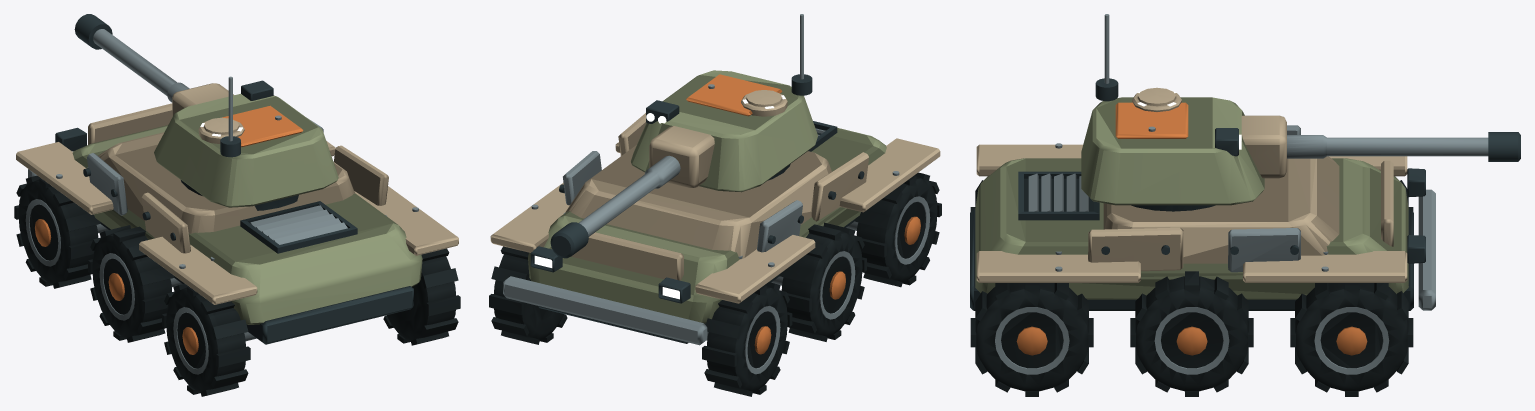
The model's file is Outrider.glb.
3 views of the same model, side by side, from view 1: azimuth 30°, elevation 25°; view 2: azimuth 150°, elevation 25°; view 3: azimuth 270°, elevation 25° (orthographic). The views are drawn at different scales.
Parts seen in each view (by area): view 1: export_Outrider_Axle, export_Outrider_ScoutTurret, export_Outrider_Wheel_-1.05_-1.28_Tire, export_Outrider_Wheel_-1.05_0.00_Tire, export_Outrider_Wheel_-1.05_1.28_Tire, export_Outrider_Wheel_1.05_-1.28_Tire, export_Outrider_Mantlet, export_Outrider_SalvagePlate1, export_Outrider_SalvagePlate2; view 2: export_Outrider_Axle, export_Outrider_ScoutTurret, export_Outrider_Wheel_-1.05_1.28_Tire, export_Outrider_Wheel_-1.05_0.00_Tire, export_Outrider_Wheel_-1.05_-1.28_Tire, export_Outrider_Mantlet, export_Outrider_SalvagePlate2, export_Outrider_Wheel_1.05_1.28_Tire, export_Outrider_SalvagePlate1; view 3: export_Outrider_Axle, export_Outrider_ScoutTurret, export_Outrider_Wheel_1.05_0.00_Tire, export_Outrider_Wheel_1.05_-1.28_Tire, export_Outrider_Wheel_1.05_1.28_Tire, export_Outrider_Mantlet, export_Outrider_SalvagePlate2, export_Outrider_SalvagePlate1.
Boxes of the visible parts, x1,y1,x2,y2 form: export_Outrider_Axle: [16, 125, 458, 344]; export_Outrider_ScoutTurret: [154, 80, 338, 207]; export_Outrider_Wheel_-1.05_-1.28_Tire: [162, 283, 250, 396]; export_Outrider_Wheel_-1.05_0.00_Tire: [88, 225, 174, 342]; export_Outrider_Wheel_-1.05_1.28_Tire: [14, 175, 100, 288]; export_Outrider_Wheel_1.05_-1.28_Tire: [383, 248, 460, 345]; export_Outrider_Mantlet: [74, 14, 234, 116]; export_Outrider_SalvagePlate1: [141, 145, 388, 253]; export_Outrider_SalvagePlate2: [83, 103, 323, 215]; export_Outrider_Axle: [490, 121, 940, 345]; export_Outrider_ScoutTurret: [631, 70, 817, 192]; export_Outrider_Wheel_-1.05_1.28_Tire: [702, 282, 792, 396]; export_Outrider_Wheel_-1.05_0.00_Tire: [779, 222, 866, 341]; export_Outrider_Wheel_-1.05_-1.28_Tire: [854, 172, 941, 287]; export_Outrider_Mantlet: [550, 126, 714, 258]; export_Outrider_SalvagePlate2: [559, 151, 803, 280]; export_Outrider_Wheel_1.05_1.28_Tire: [489, 246, 567, 344]; export_Outrider_SalvagePlate1: [618, 113, 868, 221]; export_Outrider_Axle: [970, 143, 1435, 310]; export_Outrider_ScoutTurret: [1081, 78, 1264, 205]; export_Outrider_Wheel_1.05_0.00_Tire: [1130, 271, 1253, 396]; export_Outrider_Wheel_1.05_-1.28_Tire: [970, 283, 1093, 396]; export_Outrider_Wheel_1.05_1.28_Tire: [1290, 283, 1413, 396]; export_Outrider_Mantlet: [1241, 115, 1520, 178]; export_Outrider_SalvagePlate2: [1228, 125, 1393, 272]; export_Outrider_SalvagePlate1: [1088, 227, 1183, 271].
Bounding box in the file's own units: 2.48 × 2.59 × 4.41.
